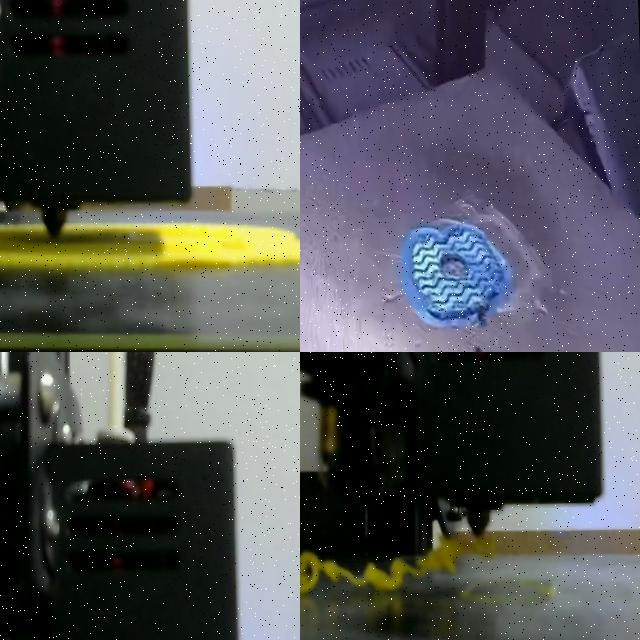spaghetti: (300, 537, 494, 593)
